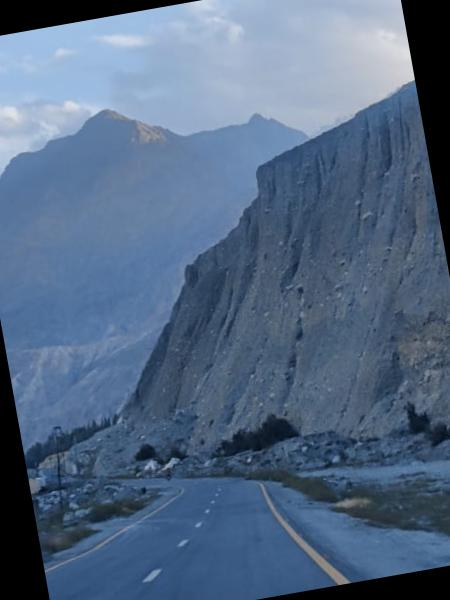right_turn: (74, 430, 284, 532)
